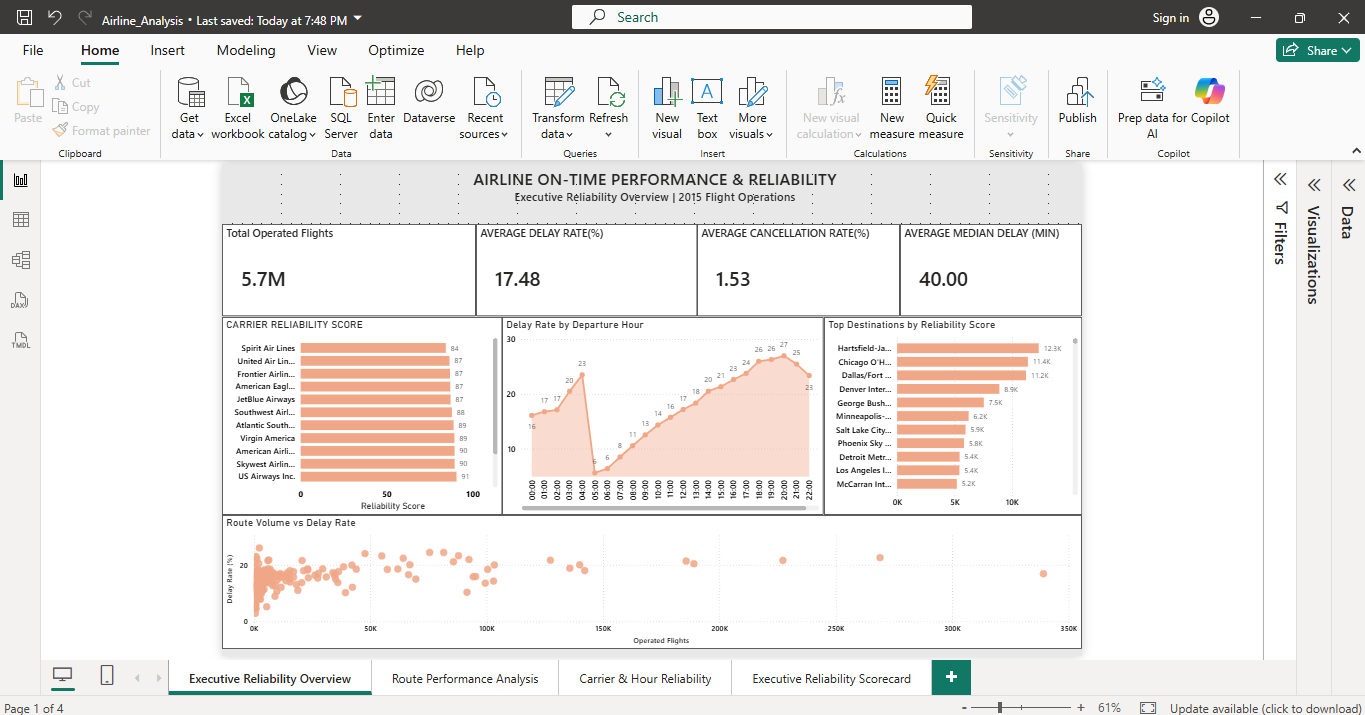

This screenshot's page, from the dashboard's own definition file:
{"tool":"powerbi","page":{"name":"Executive Reliability Overview","canvas":[1400,800],"ordinal":0},"visuals":[{"type":"textbox","box":[9.8,0,1389.6,97.6],"z":0},{"type":"cardVisual","title":"Total Operated Flights","fields":{"Data":["Sum(airline_analysis final_carrier_scorecard_named.operated_flights)"]},"box":[0,97.6,413.3,149.7],"z":1000},{"type":"cardVisual","title":"AVERAGE DELAY RATE(%)","fields":{"Data":["Avg(airline_analysis final_carrier_scorecard_named.delay_rate)"]},"box":[413.3,97.6,359.6,149.7],"z":2000},{"type":"cardVisual","title":"AVERAGE CANCELLATION RATE(%)","fields":{"Data":["Avg(airline_analysis final_carrier_scorecard_named.cancellation_rate)"]},"box":[772.9,97.6,330.3,149.7],"z":3000},{"type":"cardVisual","title":"AVERAGE MEDIAN DELAY (MIN)","fields":{"Data":["Avg(airline_analysis final_carrier_scorecard_named.median_delay)"]},"box":[1103.2,97.6,296.1,149.7],"z":4000},{"type":"clusteredBarChart","title":"CARRIER RELIABILITY SCORE","fields":{"Category":["airline_analysis final_carrier_scorecard_named.airline_name"],"Y":["Sum(airline_analysis final_carrier_scorecard_named.reliability_score)"]},"box":[0,248.5,455.5,321.9],"z":5000},{"type":"lineChart","title":"Delay Rate by Departure Hour","fields":{"Category":["airline_analysis final_hourly_scorecard_named.departure_time"],"Y":["Avg(airline_analysis final_hourly_scorecard_named.delay_rate)"]},"box":[455.5,248.5,523.3,321.9],"z":6000},{"type":"clusteredBarChart","title":"Top Destinations by Reliability Score","fields":{"Category":["airline_analysis final_route_scorecard_named.destination_airport_name","airline_analysis final_route_scorecard_named.origin_airport_name"],"Y":["Sum(airline_analysis final_route_scorecard_named.reliability_score)"]},"box":[978.8,248.5,419.8,321.9],"z":7000},{"type":"scatterChart","title":"Route Volume vs Delay Rate","fields":{"X":["Sum(airline_analysis final_route_scorecard_named.operated_flights)"],"Y":["Avg(airline_analysis final_route_scorecard_named.delay_rate)"],"Category":["airline_analysis final_route_scorecard_named.origin_airport_name","airline_analysis final_route_scorecard_named.destination_airport_name"]},"box":[0,570.4,1398.6,218.4],"z":8000},{"type":"shape","box":[0,419.8,1399.3,301],"z":9000}]}

Visuals, with their boxes on the page's 1400x800 design canvas (x1, y1, x2, y2). These are canvas units, not pixel positions in the 1365x715 screenshot, which may show the page scaled, cropped or inside an application window:
textbox: left=10, top=0, right=1399, bottom=98
"Total Operated Flights" cardVisual: left=0, top=98, right=413, bottom=247
"AVERAGE DELAY RATE(%)" cardVisual: left=413, top=98, right=773, bottom=247
"AVERAGE CANCELLATION RATE(%)" cardVisual: left=773, top=98, right=1103, bottom=247
"AVERAGE MEDIAN DELAY (MIN)" cardVisual: left=1103, top=98, right=1399, bottom=247
"CARRIER RELIABILITY SCORE" clusteredBarChart: left=0, top=248, right=456, bottom=570
"Delay Rate by Departure Hour" lineChart: left=456, top=248, right=979, bottom=570
"Top Destinations by Reliability Score" clusteredBarChart: left=979, top=248, right=1399, bottom=570
"Route Volume vs Delay Rate" scatterChart: left=0, top=570, right=1399, bottom=789
shape: left=0, top=420, right=1399, bottom=721
